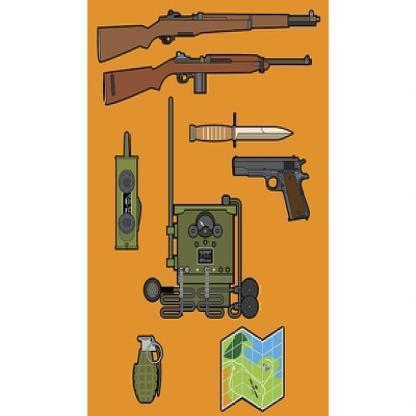Grenade: (131, 332, 165, 406)
Gun: (96, 7, 321, 66), (102, 50, 313, 109)
Knife: (189, 109, 295, 149)
Pistol: (232, 152, 312, 224)
